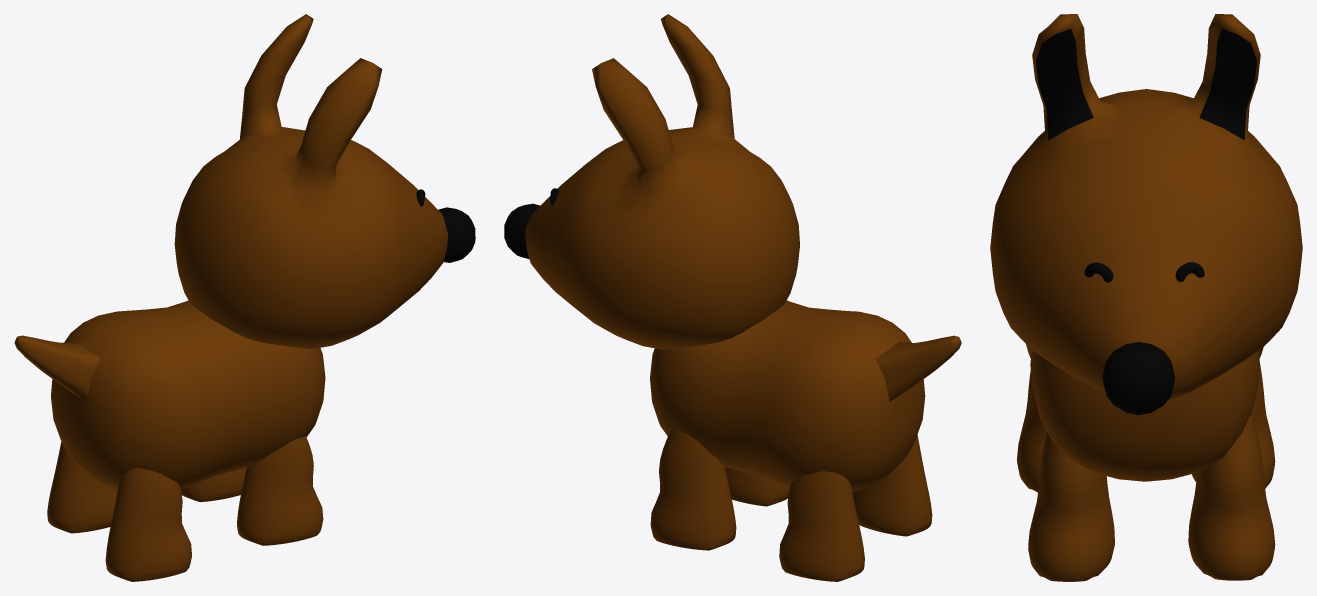
File: dog.fbx
The picture shows the model from 3 angles, left to right: view 1: azimuth 30°, elevation 25°; view 2: azimuth 150°, elevation 25°; view 3: azimuth 270°, elevation 25°; orthographic projection. The views are drawn at different scales.
Visible parts, largest first — view 1: polySurface341, polySurface340, polySurface343, polySurface344, polySurface346, polySurface345; view 2: polySurface341, polySurface340, polySurface345, polySurface346, polySurface343, polySurface344; view 3: polySurface341, polySurface340, polySurface345, polySurface344, polySurface343, polySurface346.
Boxes of the visible parts, x1,y1,x2,y2 form: polySurface341: [174, 14, 475, 348]; polySurface340: [14, 300, 325, 489]; polySurface343: [105, 468, 191, 581]; polySurface344: [237, 436, 323, 545]; polySurface346: [47, 442, 117, 533]; polySurface345: [181, 467, 246, 502]; polySurface341: [504, 14, 799, 349]; polySurface340: [650, 300, 961, 491]; polySurface345: [650, 429, 736, 550]; polySurface346: [779, 471, 864, 581]; polySurface343: [852, 434, 932, 536]; polySurface344: [725, 467, 789, 506]; polySurface341: [990, 14, 1302, 415]; polySurface340: [1026, 344, 1263, 481]; polySurface345: [1188, 413, 1275, 580]; polySurface344: [1028, 432, 1114, 581]; polySurface343: [1017, 370, 1046, 492]; polySurface346: [1192, 364, 1275, 488].
Bounding box in the file's own units: 0.5818 × 0.5571 × 0.2628.
